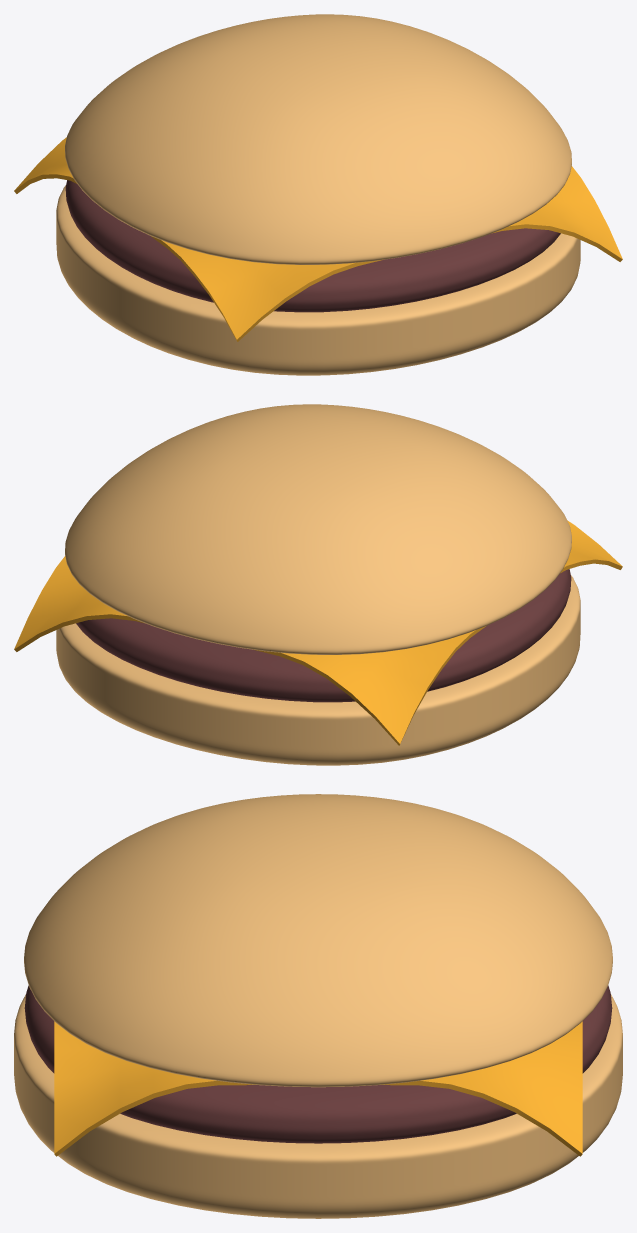
The model's file is hamburguer.glb.
3 views of the same model, one above another, from view 1: azimuth 30°, elevation 25°; view 2: azimuth 150°, elevation 25°; view 3: azimuth 270°, elevation 25° (orthographic). The views are drawn at different scales.
Visible parts, largest first — view 1: Top Bun, Bottom Bun, Meat, Cheese; view 2: Top Bun, Bottom Bun, Meat, Cheese; view 3: Top Bun, Bottom Bun, Meat, Cheese.
Boxes of the visible parts, <box> form: Top Bun: <box>65,14,571,264</box>; Bottom Bun: <box>56,185,580,375</box>; Meat: <box>65,180,560,312</box>; Cheese: <box>14,137,622,341</box>; Top Bun: <box>65,404,571,654</box>; Bottom Bun: <box>56,575,580,765</box>; Meat: <box>76,569,571,702</box>; Cheese: <box>14,520,622,745</box>; Top Bun: <box>24,794,612,1087</box>; Bottom Bun: <box>14,994,622,1218</box>; Meat: <box>24,985,612,1143</box>; Cheese: <box>54,1021,582,1156</box>.
Bounding box in the file's own units: 9.2 × 4.71 × 9.2.
